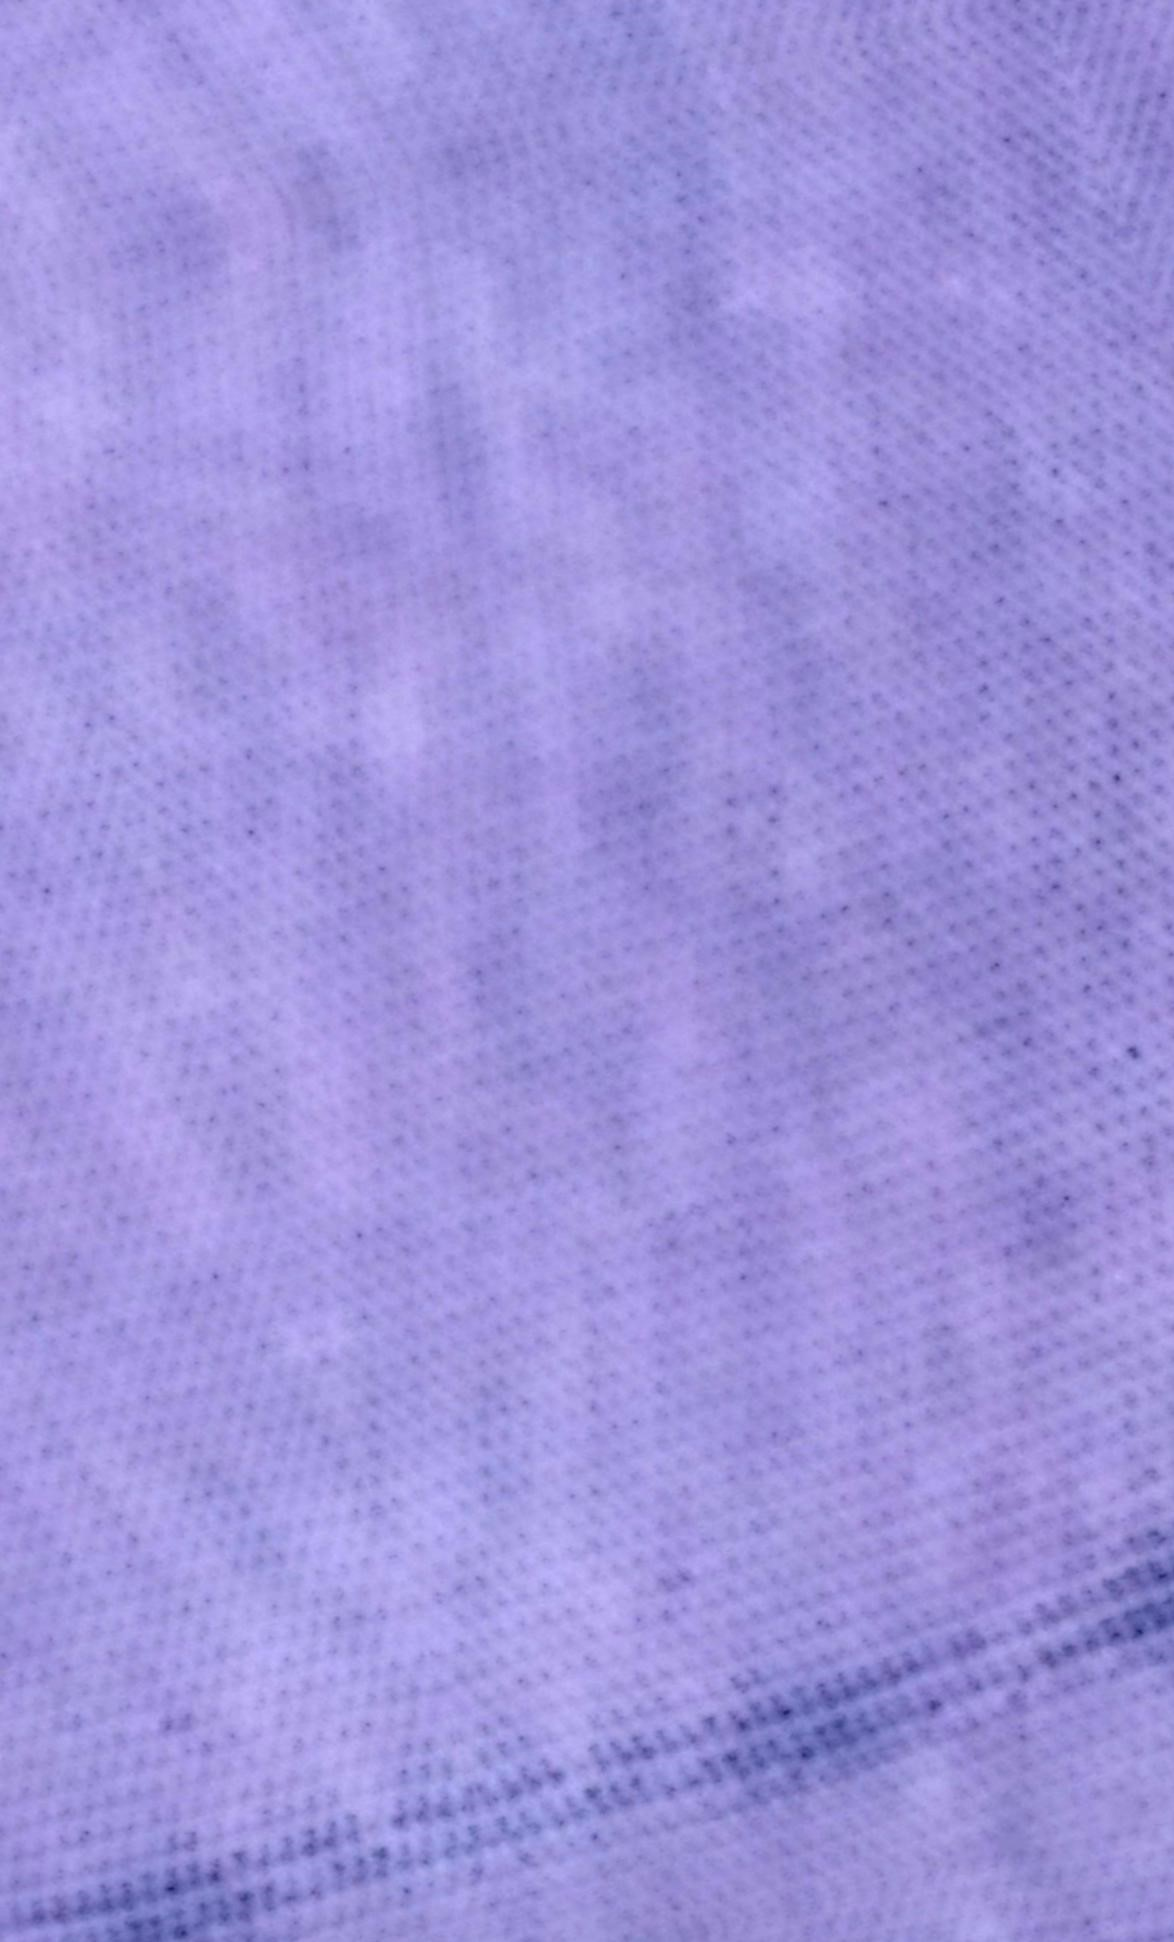slub: (10, 1574, 1174, 1930)
